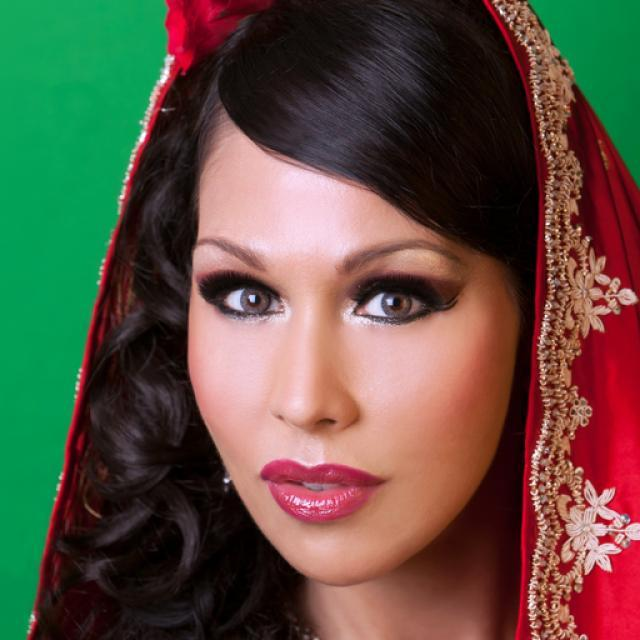content: (182, 128, 520, 586)
